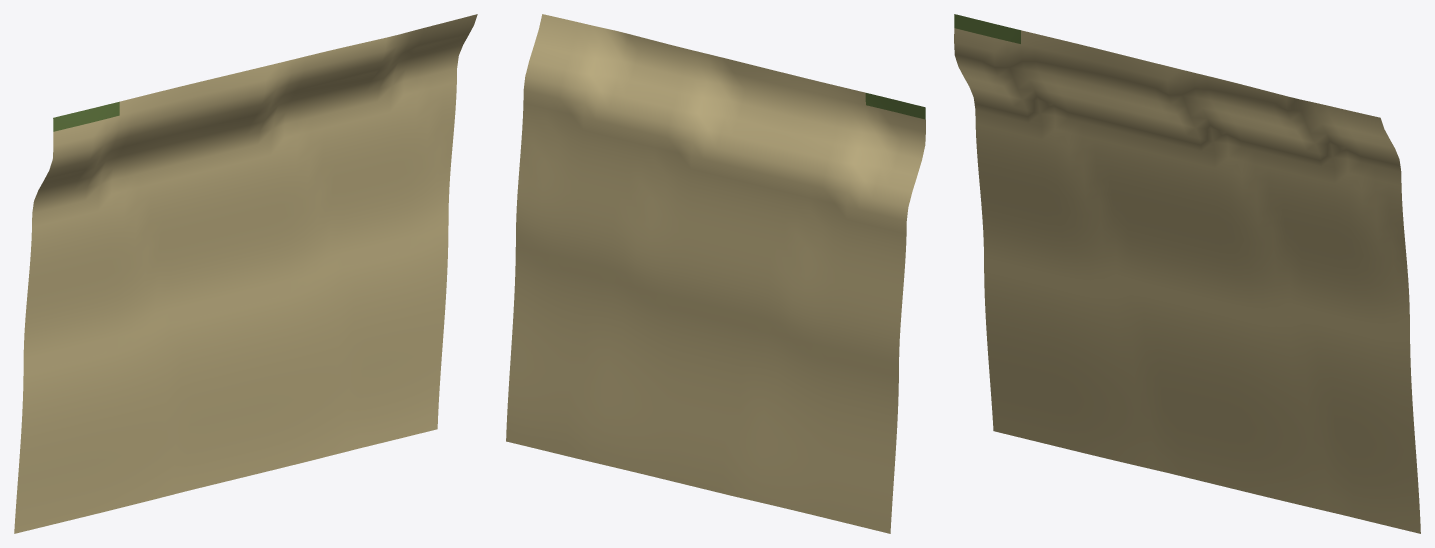
The model's file is island_terrain_21_01.obj.
3 views of the same model, side by side, from view 1: azimuth 30°, elevation 25°; view 2: azimuth 150°, elevation 25°; view 3: azimuth 330°, elevation 25° (orthographic). The views are drawn at different scales.
Parts seen in each view (by area): view 1: island_terrain_21_01; view 2: island_terrain_21_01; view 3: island_terrain_21_01.
Part boxes in pixels (box(x1,y1,x2,y2)): island_terrain_21_01: box(14, 14, 477, 533); island_terrain_21_01: box(506, 14, 925, 533); island_terrain_21_01: box(954, 14, 1420, 533).
Bounding box in the file's own units: 256 × 256 × 43.39.
